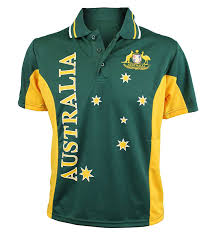S_polo shirt: (22, 5, 201, 225)
